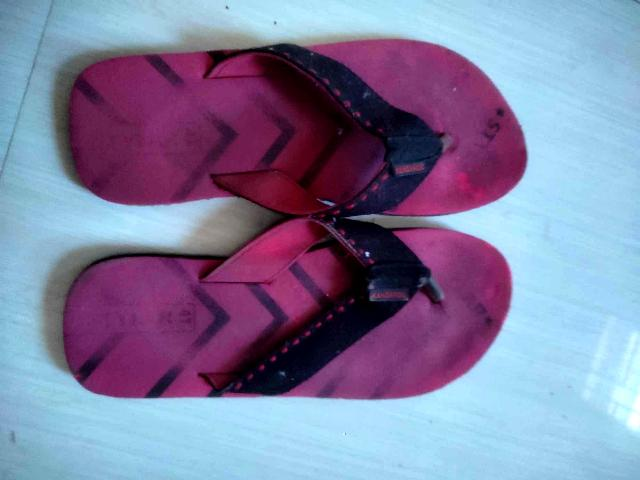sandal: (74, 21, 544, 207), (62, 221, 518, 399)
